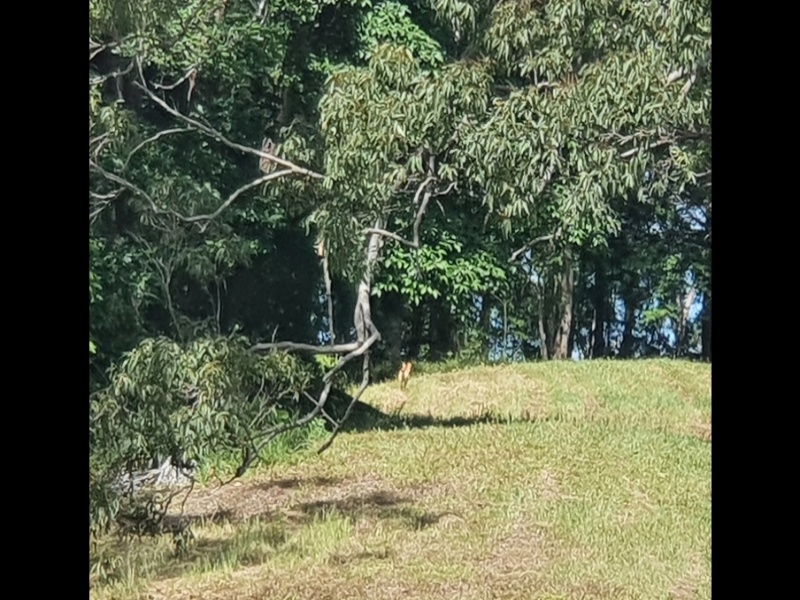dog: (395, 359, 415, 394)
